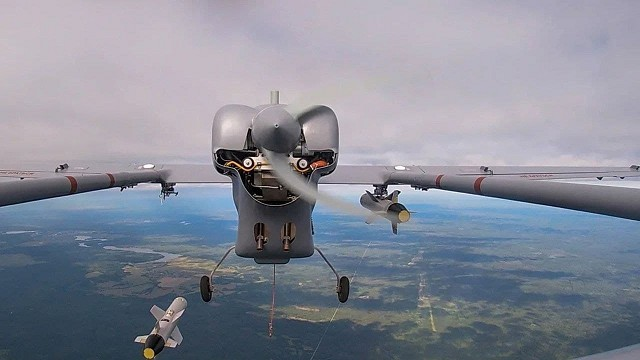ten_lua: (122, 292, 194, 353)
